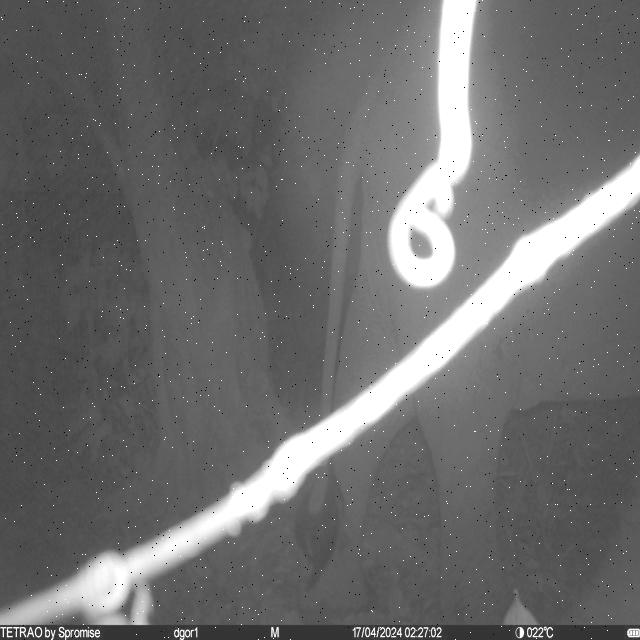elephant: (296, 0, 640, 608)
